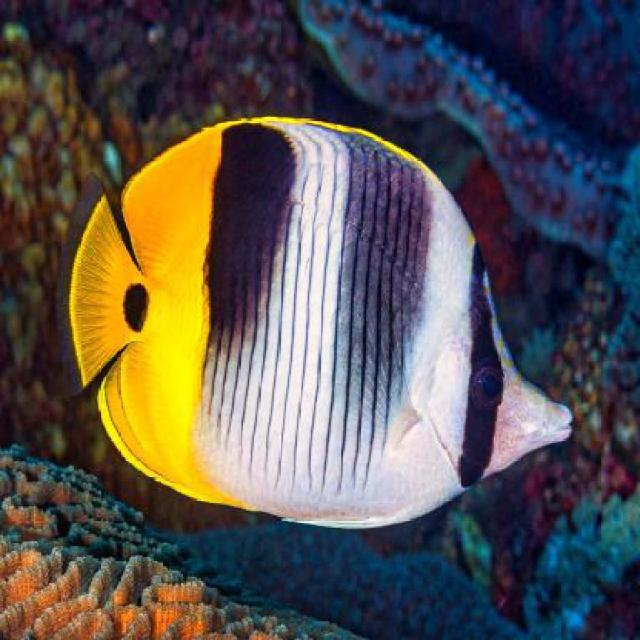ButterflyFish: (72, 114, 571, 530)
